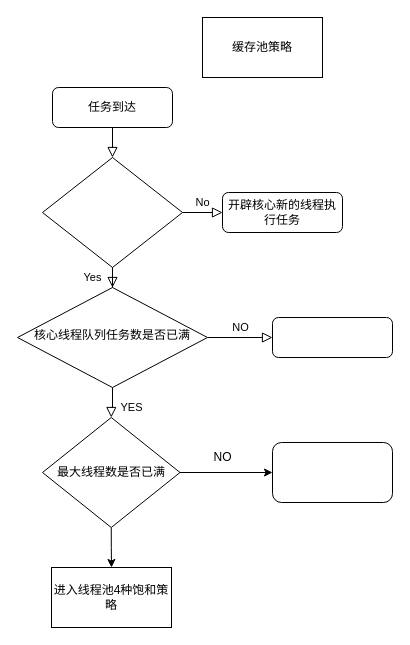
This 410x645 diagram has some shape labels left out. The centre of each missing label's shape, as x and y in pixels:
"创建普通线程执行任务" belongs at [332,472].
"加入队列之中" belongs at [332,337].
"核心线程数是否已满" belongs at [112,212].
